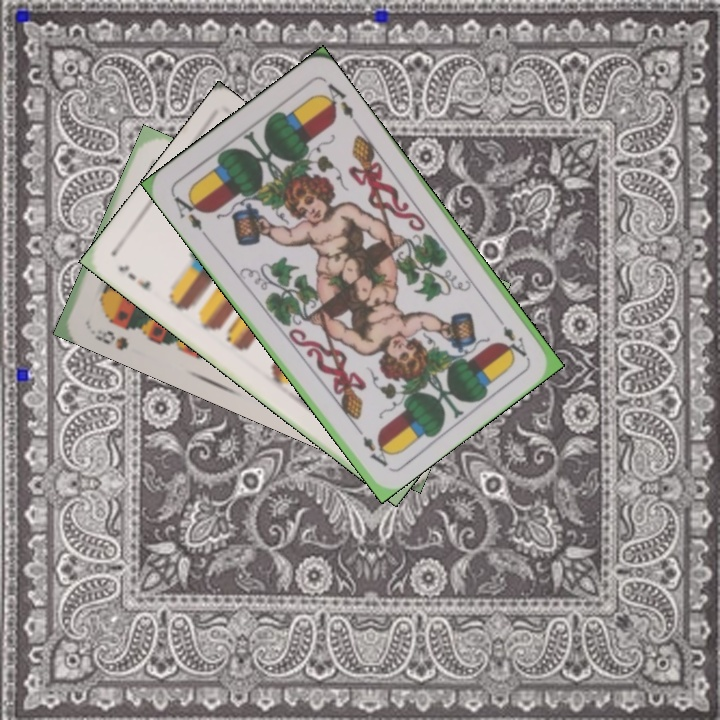E7: (114, 261, 154, 292)
EA: (167, 189, 210, 240), (490, 310, 530, 360)
S8: (90, 325, 131, 353)
